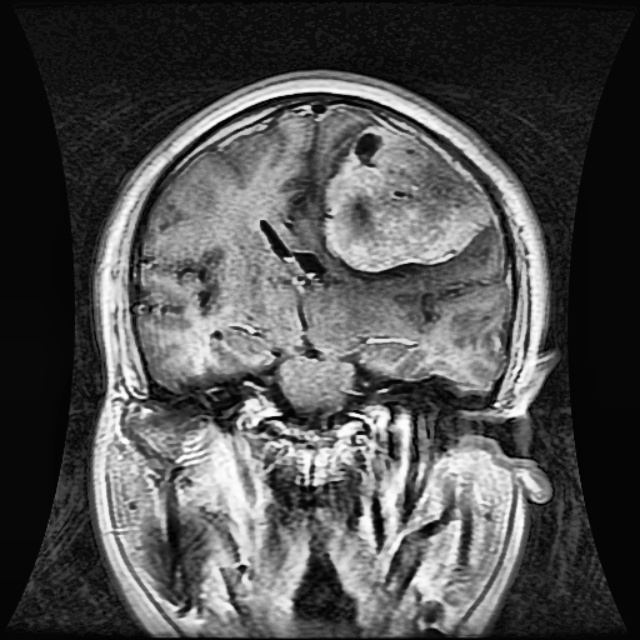Glioma: (322, 123, 493, 272)
